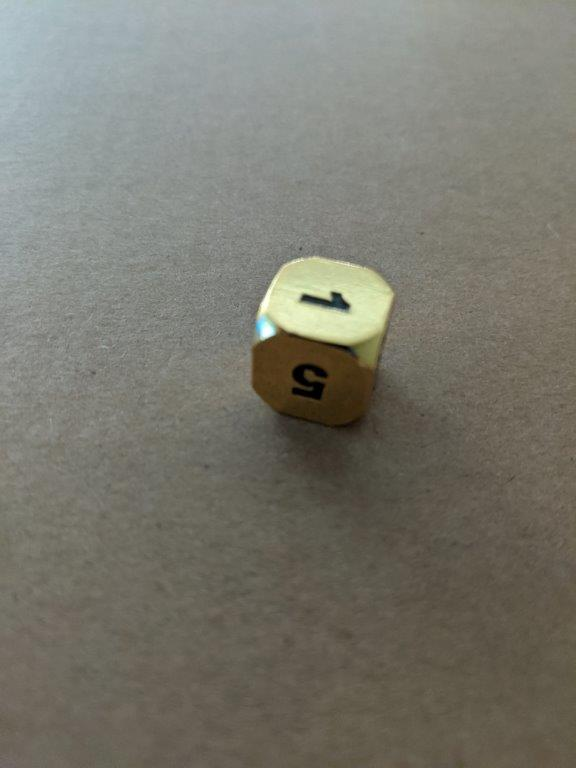d6-1: (252, 254, 398, 428)
